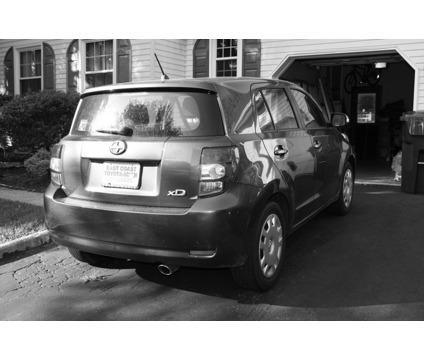car: (42, 78, 362, 299)
